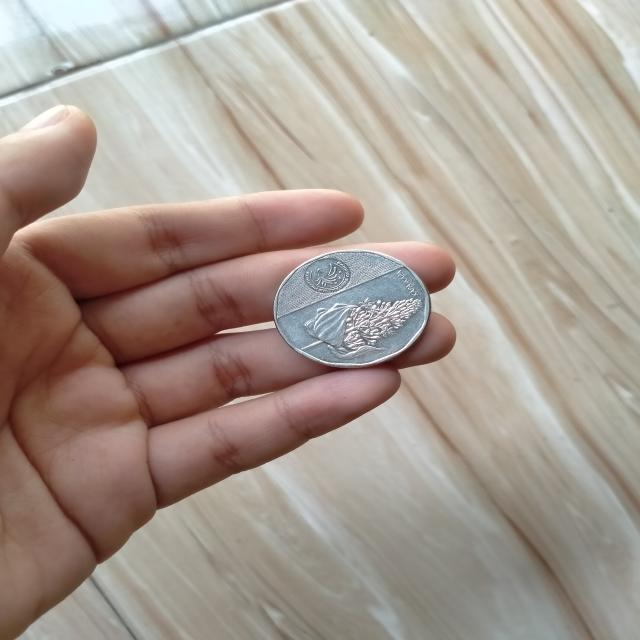10_New_Back: (292, 292, 432, 365)
